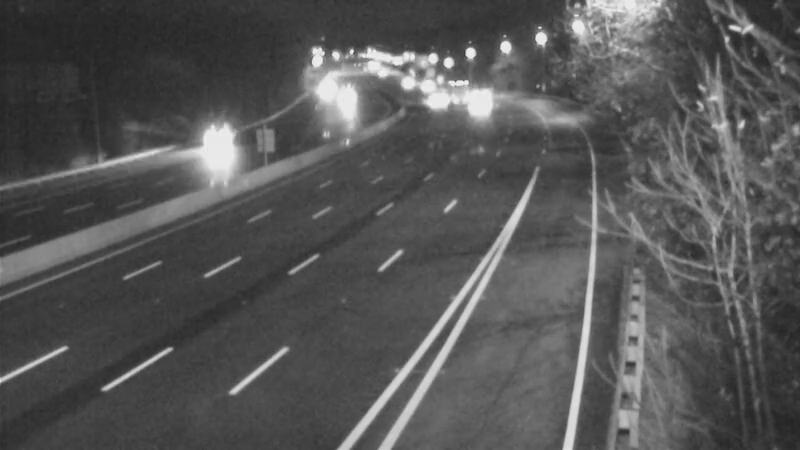vehicle: (380, 58, 430, 108), (402, 58, 452, 108), (430, 65, 480, 115), (458, 68, 508, 118), (415, 77, 465, 127), (450, 80, 500, 130), (186, 120, 236, 170), (321, 81, 371, 131)
